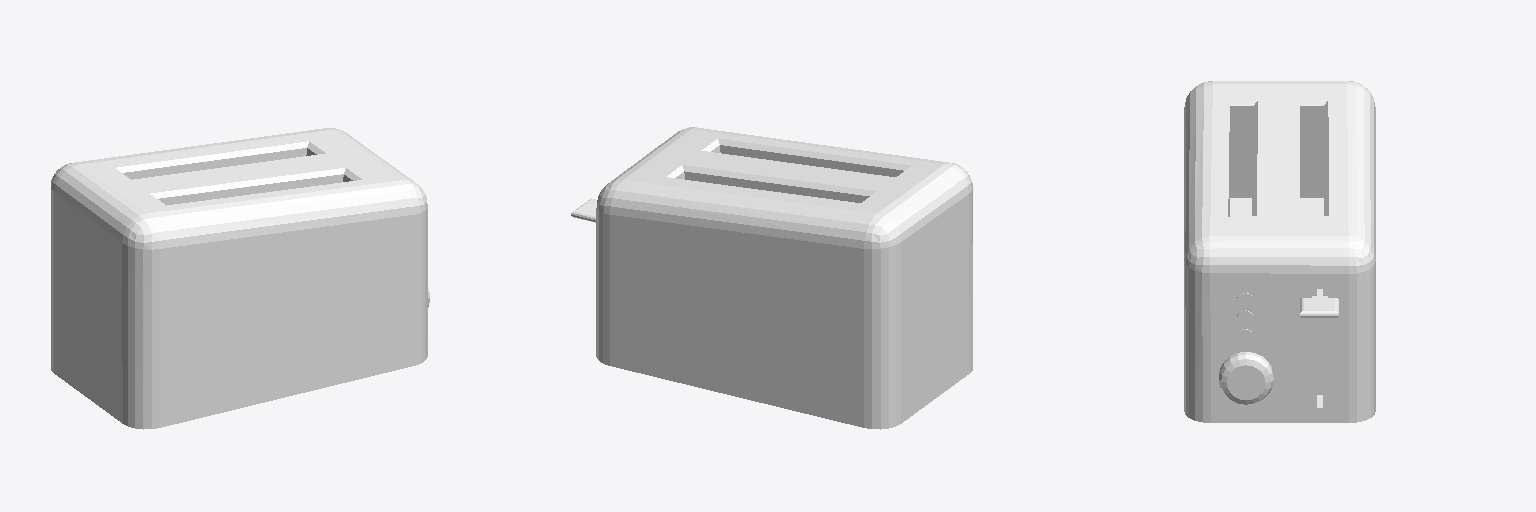
The model's file is Toaster.obj.
The picture shows the model from 3 angles: view 1: azimuth 30°, elevation 25°; view 2: azimuth 150°, elevation 25°; view 3: azimuth 270°, elevation 25°; orthographic projection.
Visible parts, largest first — view 1: pCylinder5; view 2: pCylinder5; view 3: pCylinder5.
Part boxes in pixels (left/top/right/bottom): pCylinder5: left=51, top=128, right=429, bottom=429; pCylinder5: left=571, top=127, right=972, bottom=429; pCylinder5: left=1184, top=81, right=1375, bottom=422.
Size of the model in its own units: 5.2 by 3.02 by 2.57.